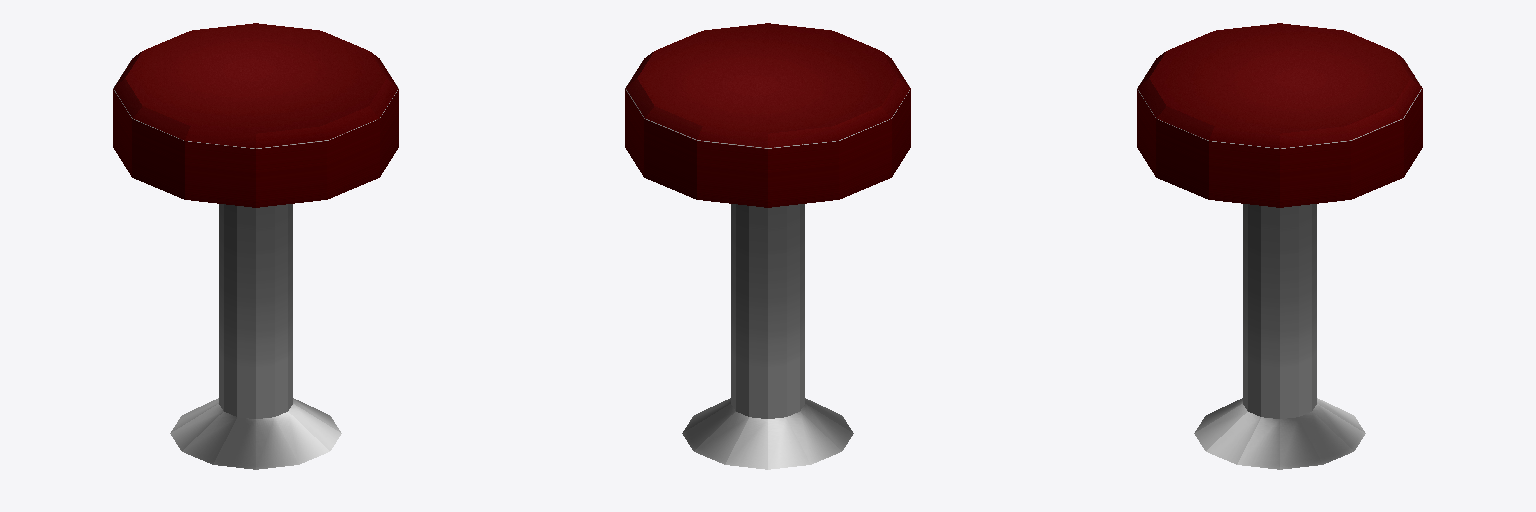
3 renders of one model, left to right at view 1: azimuth 30°, elevation 25°; view 2: azimuth 150°, elevation 25°; view 3: azimuth 270°, elevation 25°, orthographic.
Parts seen in each view (by area): view 1: Cylinder; view 2: Cylinder; view 3: Cylinder.
Boxes of the visible parts, x1,y1,x2,y2 form: Cylinder: [113, 23, 398, 469]; Cylinder: [625, 23, 910, 469]; Cylinder: [1137, 23, 1422, 469].
Size of the model in its own units: 2 by 2.74 by 2.
1 materials, 1 textured.